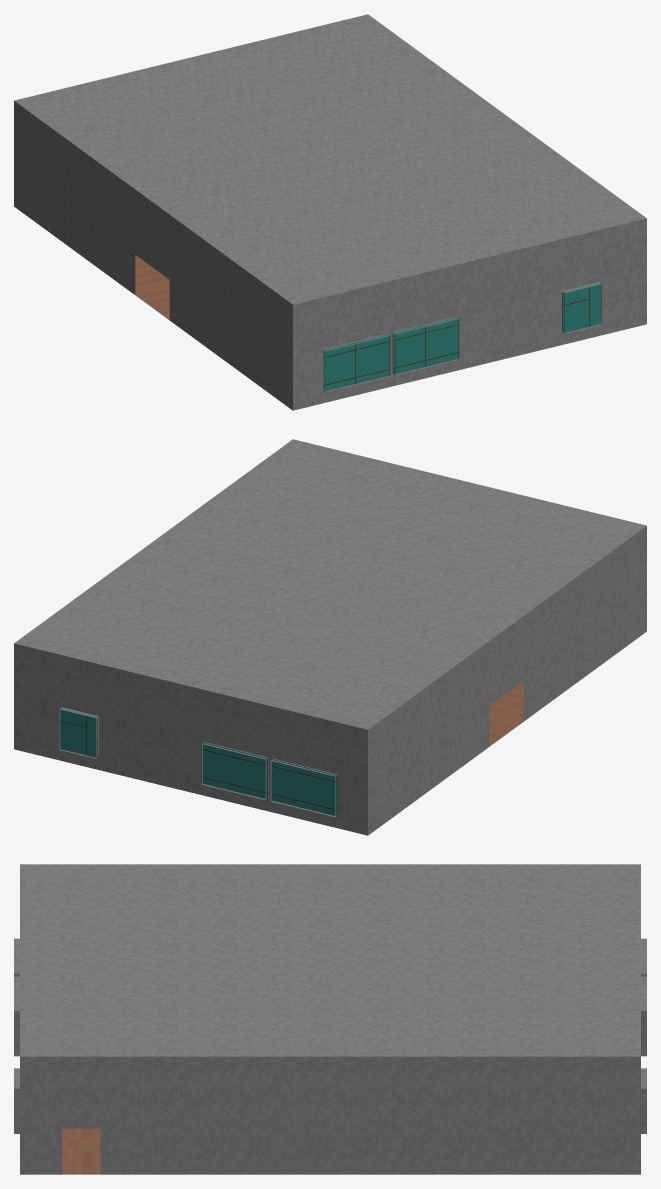
File: inside.glb
3 views of the same model, one above another, from view 1: azimuth 30°, elevation 25°; view 2: azimuth 150°, elevation 25°; view 3: azimuth 270°, elevation 25° (orthographic). The views are drawn at different scales.
Parts seen in each view (by area): view 1: Cube; view 2: Cube; view 3: Cube.
Part boxes in pixels (left/top/right/bottom): Cube: left=14, top=14, right=646, bottom=410; Cube: left=14, top=439, right=646, bottom=835; Cube: left=14, top=864, right=646, bottom=1174.
Size of the model in its own units: 3.71 by 1.06 by 5.16.
3 materials, 3 textured.
